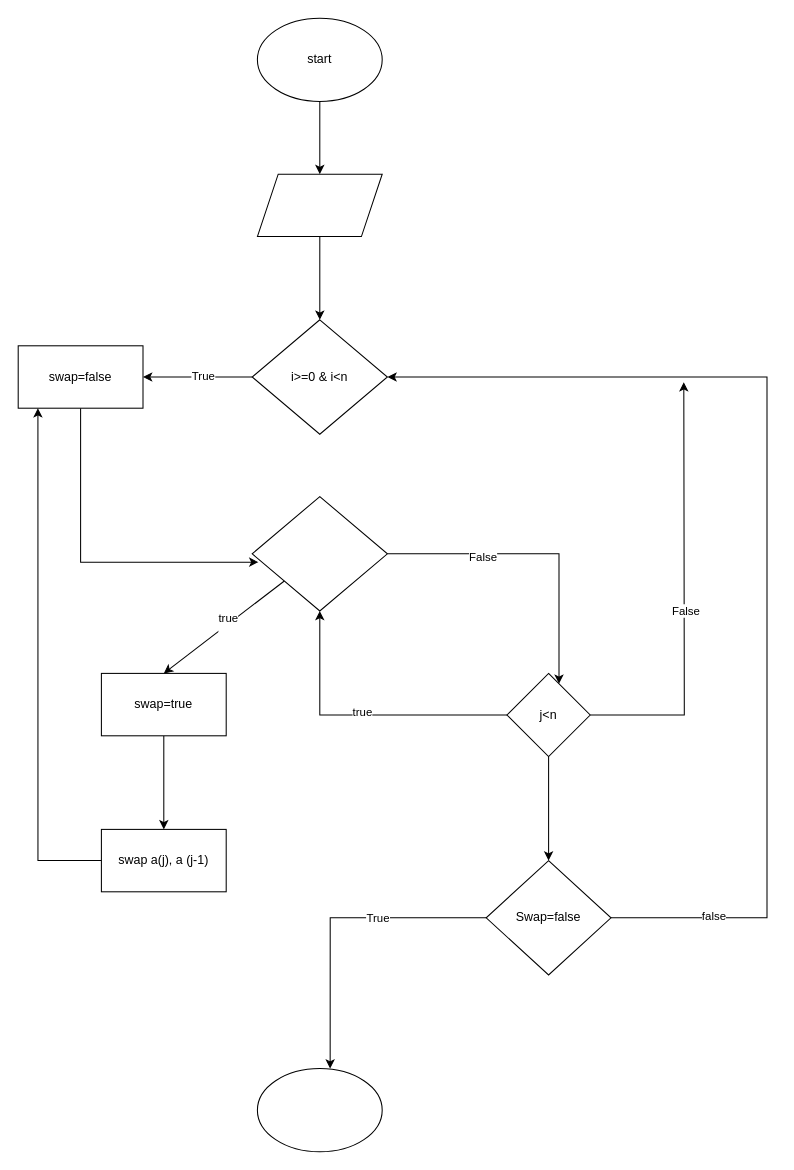
The diagram is 794 pixels wide and 1170 high, and some of its shapes have lost their labels. Here are the shapes that lost their labels. From the top down, the box of each, then its label:
(256, 173, 382, 237): input array
(251, 496, 387, 611): a(j-1)>a(j)
(256, 1068, 382, 1152): end
